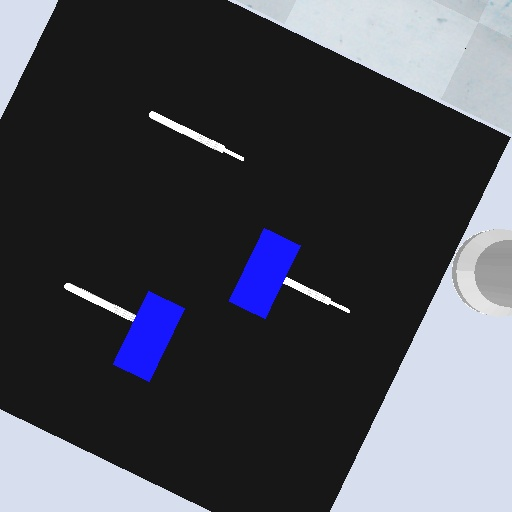bisturi: (146, 107, 247, 163), (61, 280, 139, 324), (280, 275, 355, 318)
